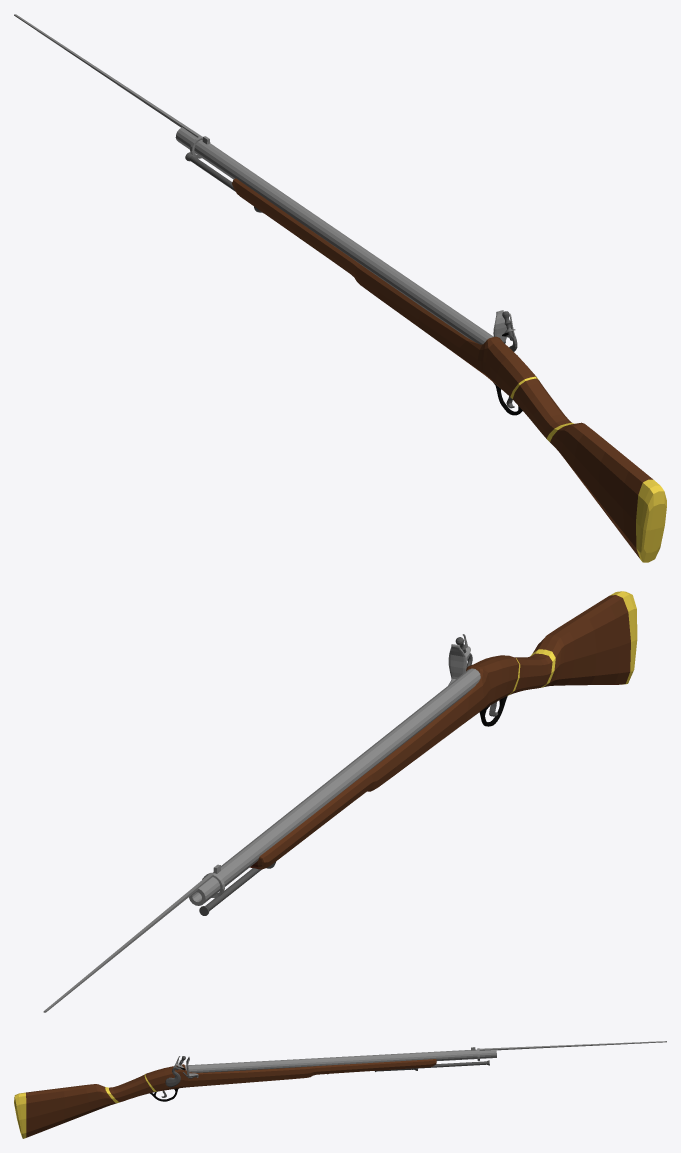
The model's file is mosquete_separado.fbx.
The picture shows the model from 3 angles, top to bottom: view 1: azimuth 30°, elevation 25°; view 2: azimuth 150°, elevation 25°; view 3: azimuth 270°, elevation 25°; orthographic projection. The views are drawn at different scales.
Visible parts, largest first — view 1: mosquete, mosquete.001; view 2: mosquete, mosquete.001; view 3: mosquete, mosquete.001, mosquete.002.
Boxes of the visible parts, bbox=[...] form: mosquete: bbox=[175, 127, 666, 562]; mosquete.001: bbox=[14, 14, 210, 158]; mosquete: bbox=[189, 591, 637, 915]; mosquete.001: bbox=[43, 872, 224, 1012]; mosquete: bbox=[14, 1047, 496, 1138]; mosquete.001: bbox=[477, 1041, 666, 1060]; mosquete.002: bbox=[165, 1066, 182, 1087].
Bounding box in the file's own units: 30.77 × 58.58 × 420.
